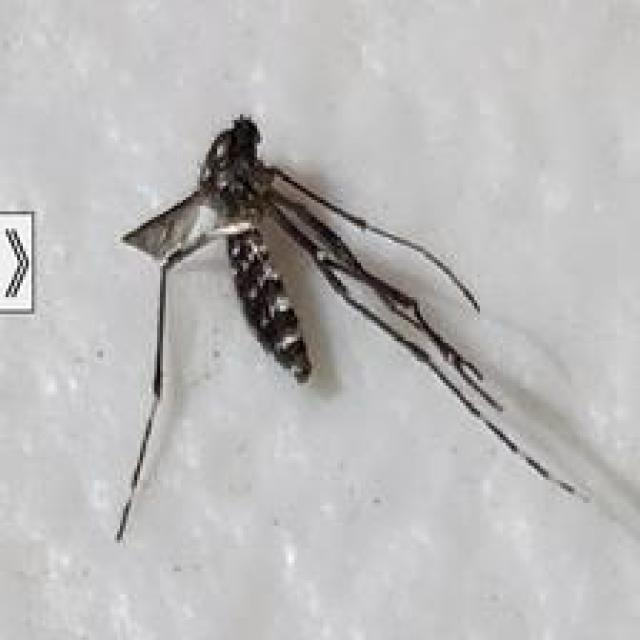Aedes albopictus: (113, 111, 590, 543)
